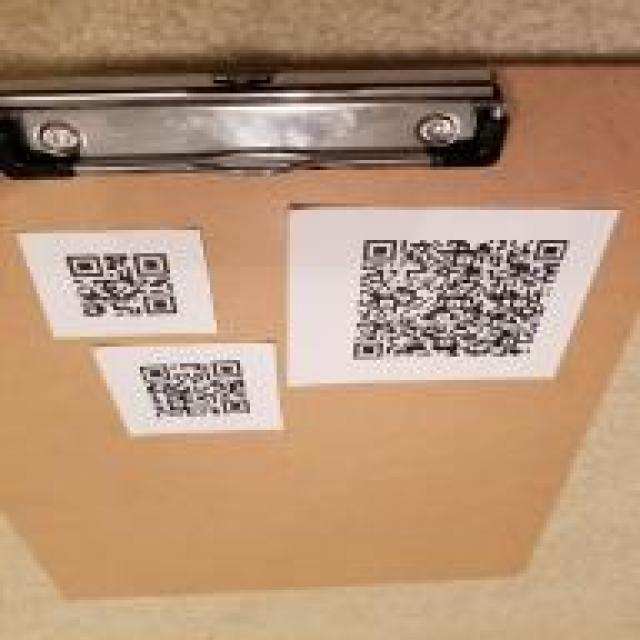qr_code: (352, 240, 568, 360), (65, 253, 178, 318), (139, 359, 251, 419)
